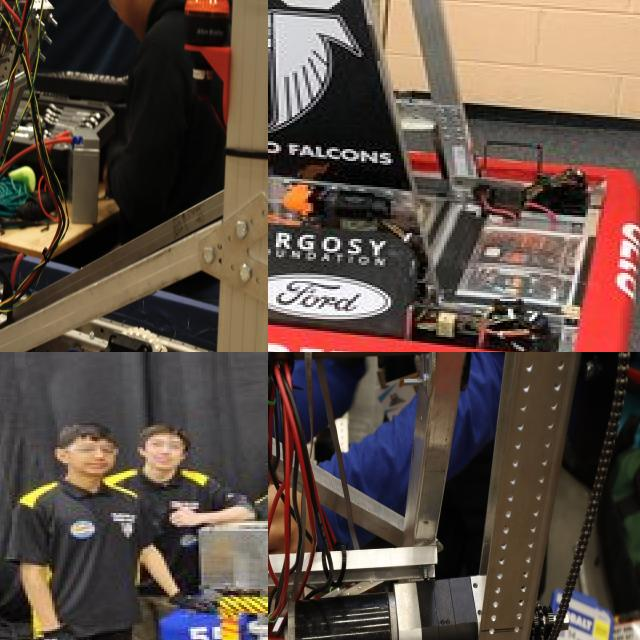FRC-Robots: (268, 0, 640, 352), (268, 352, 563, 640), (180, 525, 268, 640)
